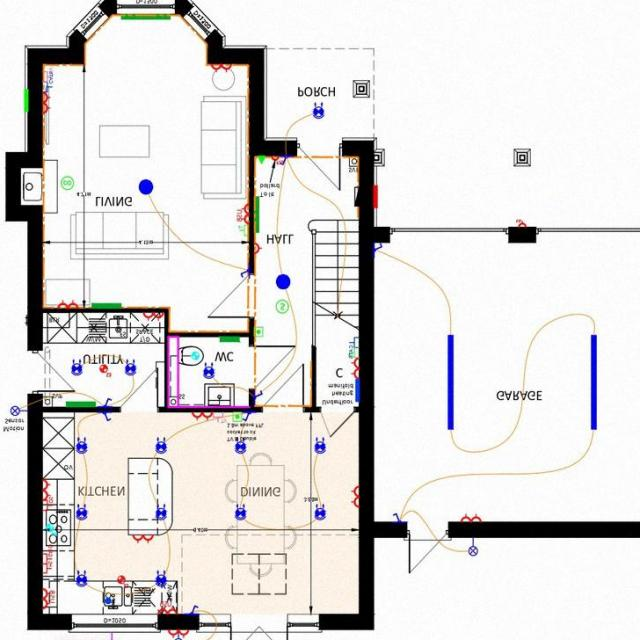BT Entry Point: (256, 158, 264, 165)
Cat 6 Data Socket: (347, 338, 358, 358), (42, 73, 53, 93)
Ceiling Mounted Continuous Extract FanWith Boost Mode Activated By Light Switch: (190, 354, 199, 361)
Ceiling Mounted Continuous Extract FanWith Local Boost Switch: (98, 366, 111, 378), (116, 577, 128, 589)
Co-Ax TV Socket: (41, 68, 53, 82), (212, 413, 227, 424)
Consumer Unit: (353, 188, 358, 208)
Double Socket: (56, 300, 78, 310), (209, 65, 232, 74), (460, 514, 481, 523), (41, 479, 50, 499), (350, 359, 359, 379), (350, 487, 358, 508), (132, 536, 153, 544), (42, 93, 50, 114), (167, 631, 187, 639), (142, 314, 162, 322), (191, 413, 211, 421)
Electric Meter Box: (372, 186, 377, 209)
External Wall Light: (9, 406, 26, 417), (468, 539, 477, 557), (173, 634, 183, 640)
Fused spur: (271, 158, 282, 166)
Gas Meter Box: (24, 89, 27, 112)
Grid Switch: (42, 546, 52, 565)
Hob Switch: (41, 563, 51, 574)
Light Switch: (188, 606, 199, 615), (103, 398, 112, 408), (392, 514, 401, 523), (102, 413, 111, 422), (374, 244, 382, 253), (242, 414, 250, 423), (238, 270, 247, 278), (278, 158, 286, 166), (255, 391, 262, 400)
Low Energy Downlighter: (75, 571, 87, 588), (75, 505, 87, 521), (202, 364, 214, 380), (312, 103, 324, 119), (70, 361, 82, 376), (155, 505, 166, 521), (76, 438, 87, 454), (155, 438, 166, 454), (234, 505, 245, 521), (314, 505, 325, 521), (314, 438, 325, 454), (124, 361, 135, 376), (155, 572, 165, 588), (234, 440, 245, 454)
Low Energy Pendant Light: (138, 180, 152, 196), (275, 275, 289, 290)
Mains Wired Smoke Detector: (276, 301, 288, 314)
Outside Socket: (515, 220, 526, 228)
Outside Tap: (104, 634, 118, 640)
Oven Switch: (42, 498, 52, 511)
Programmable Room Thermostat: (232, 413, 241, 422), (253, 328, 262, 337)
Radiator: (120, 16, 170, 21), (254, 197, 259, 234), (90, 304, 120, 310), (65, 403, 95, 408), (219, 338, 239, 343)
Recirculating Extractor Fan: (45, 525, 56, 538)
Single Socket: (253, 243, 261, 255)
Telephone Socket: (346, 348, 358, 358), (236, 226, 248, 236)
Twin LED Strip Light: (590, 335, 596, 431), (447, 336, 453, 431)
USB Double Socket: (42, 588, 55, 610), (157, 602, 177, 615), (235, 205, 248, 225)
Underfloor Heating Manifold: (354, 380, 358, 402)
Water Entry Position: (104, 599, 111, 605)
